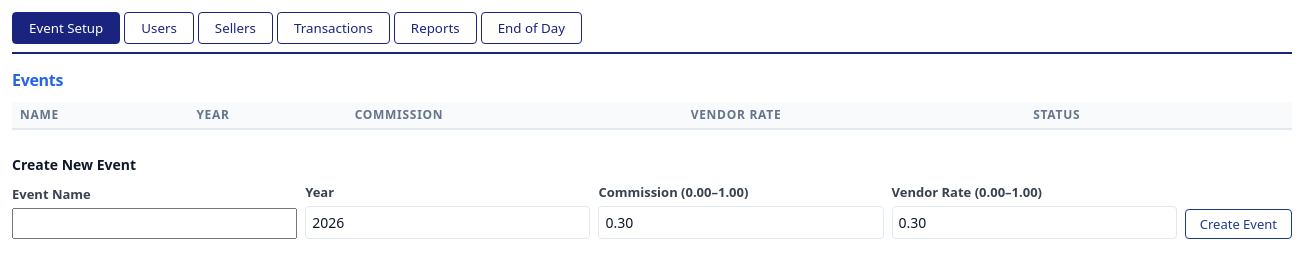
it: AdminPage navigation › navigates to Users section
The image size is (1304, 258).
Click the button "Users". click: (159, 28)
box: x1=124 y1=12 x2=194 y2=44
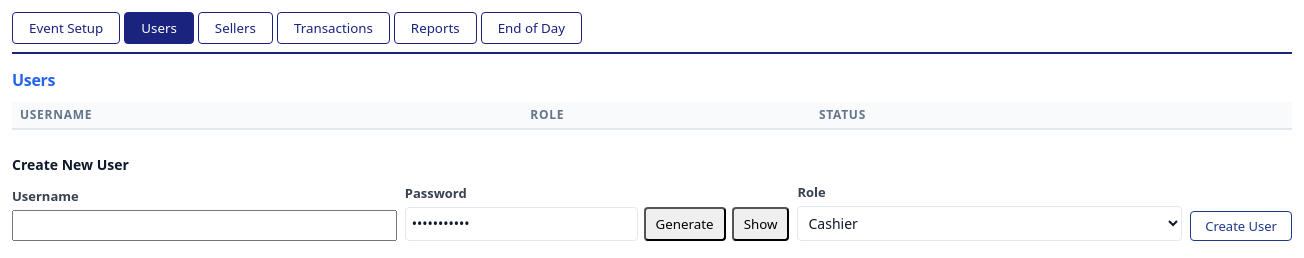
Now the button "Create User" is shown, box x1=1190 y1=210 x2=1292 y2=240
